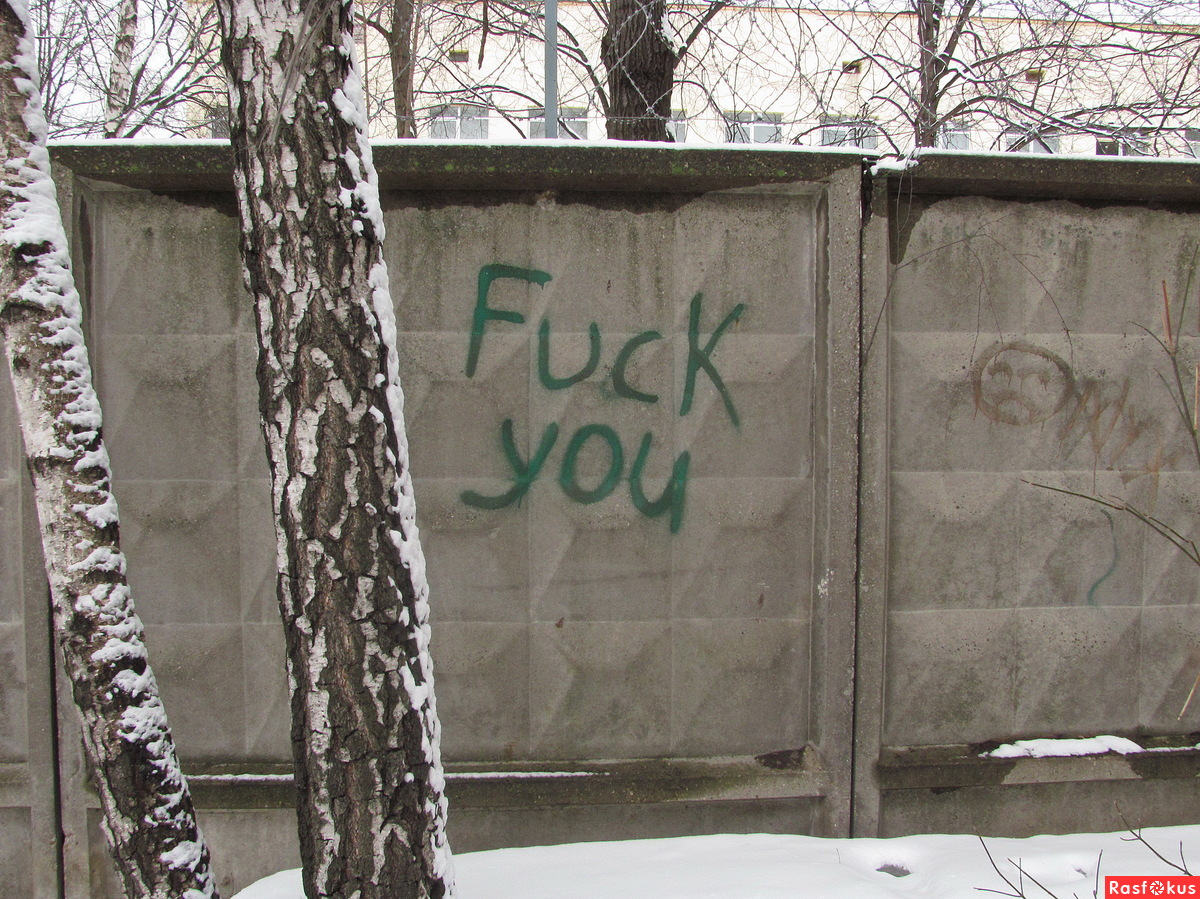graphite: (441, 252, 757, 539), (970, 334, 1166, 471)
